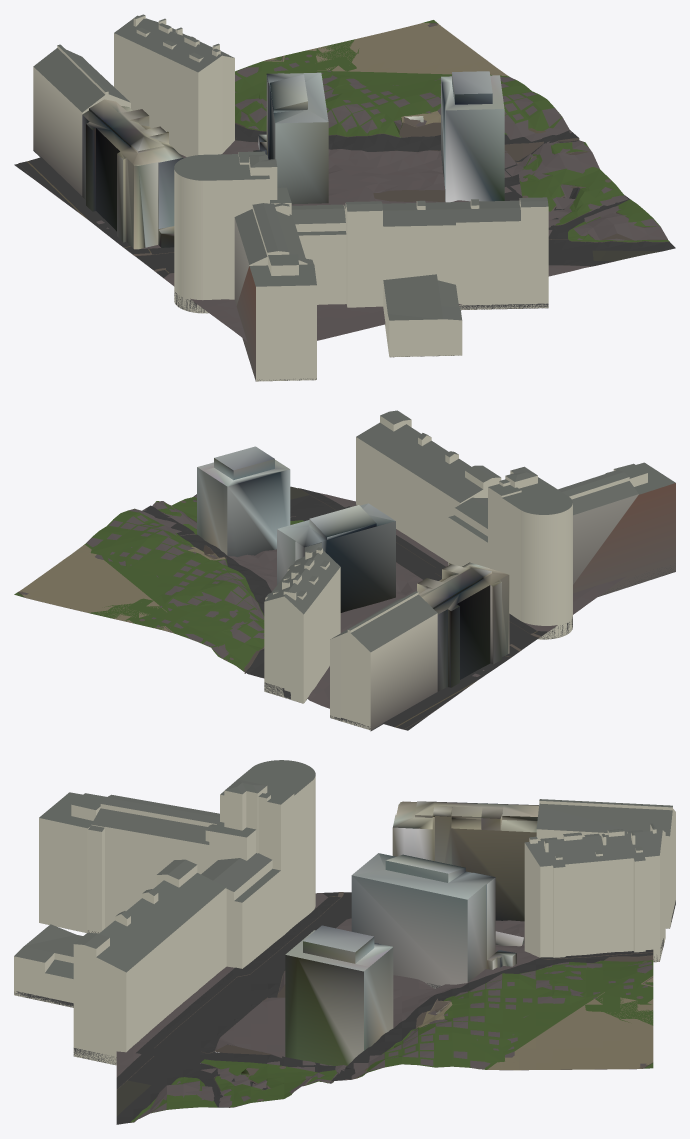
3 views of the same model, one above another, from view 1: azimuth 30°, elevation 25°; view 2: azimuth 150°, elevation 25°; view 3: azimuth 270°, elevation 25° (orthographic). The views are drawn at different scales.
Parts seen in each view (by area): view 1: c_p04_m15; view 2: c_p04_m15; view 3: c_p04_m15.
Part boxes in pixels (x1,y1,x2,y2): c_p04_m15: (14,14,675,381); c_p04_m15: (14,410,675,731); c_p04_m15: (14,760,675,1124).
Bounding box in the file's own units: 135 × 41.74 × 158.
